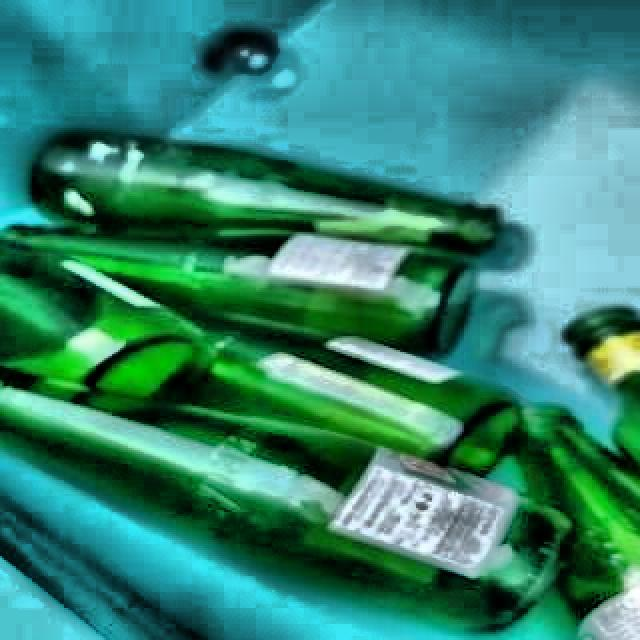glass: (0, 132, 640, 640)
